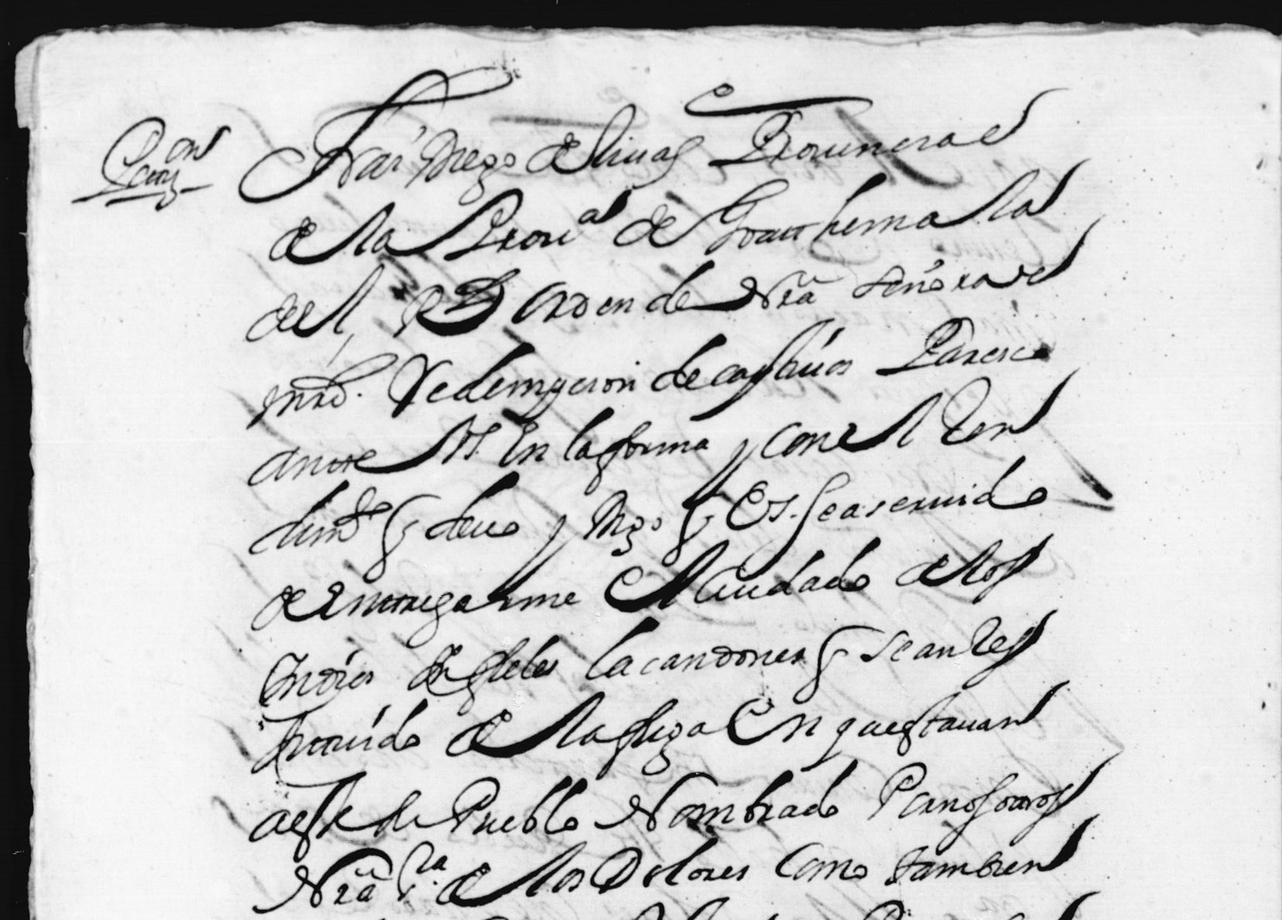lacandon: (585, 616, 806, 680)
